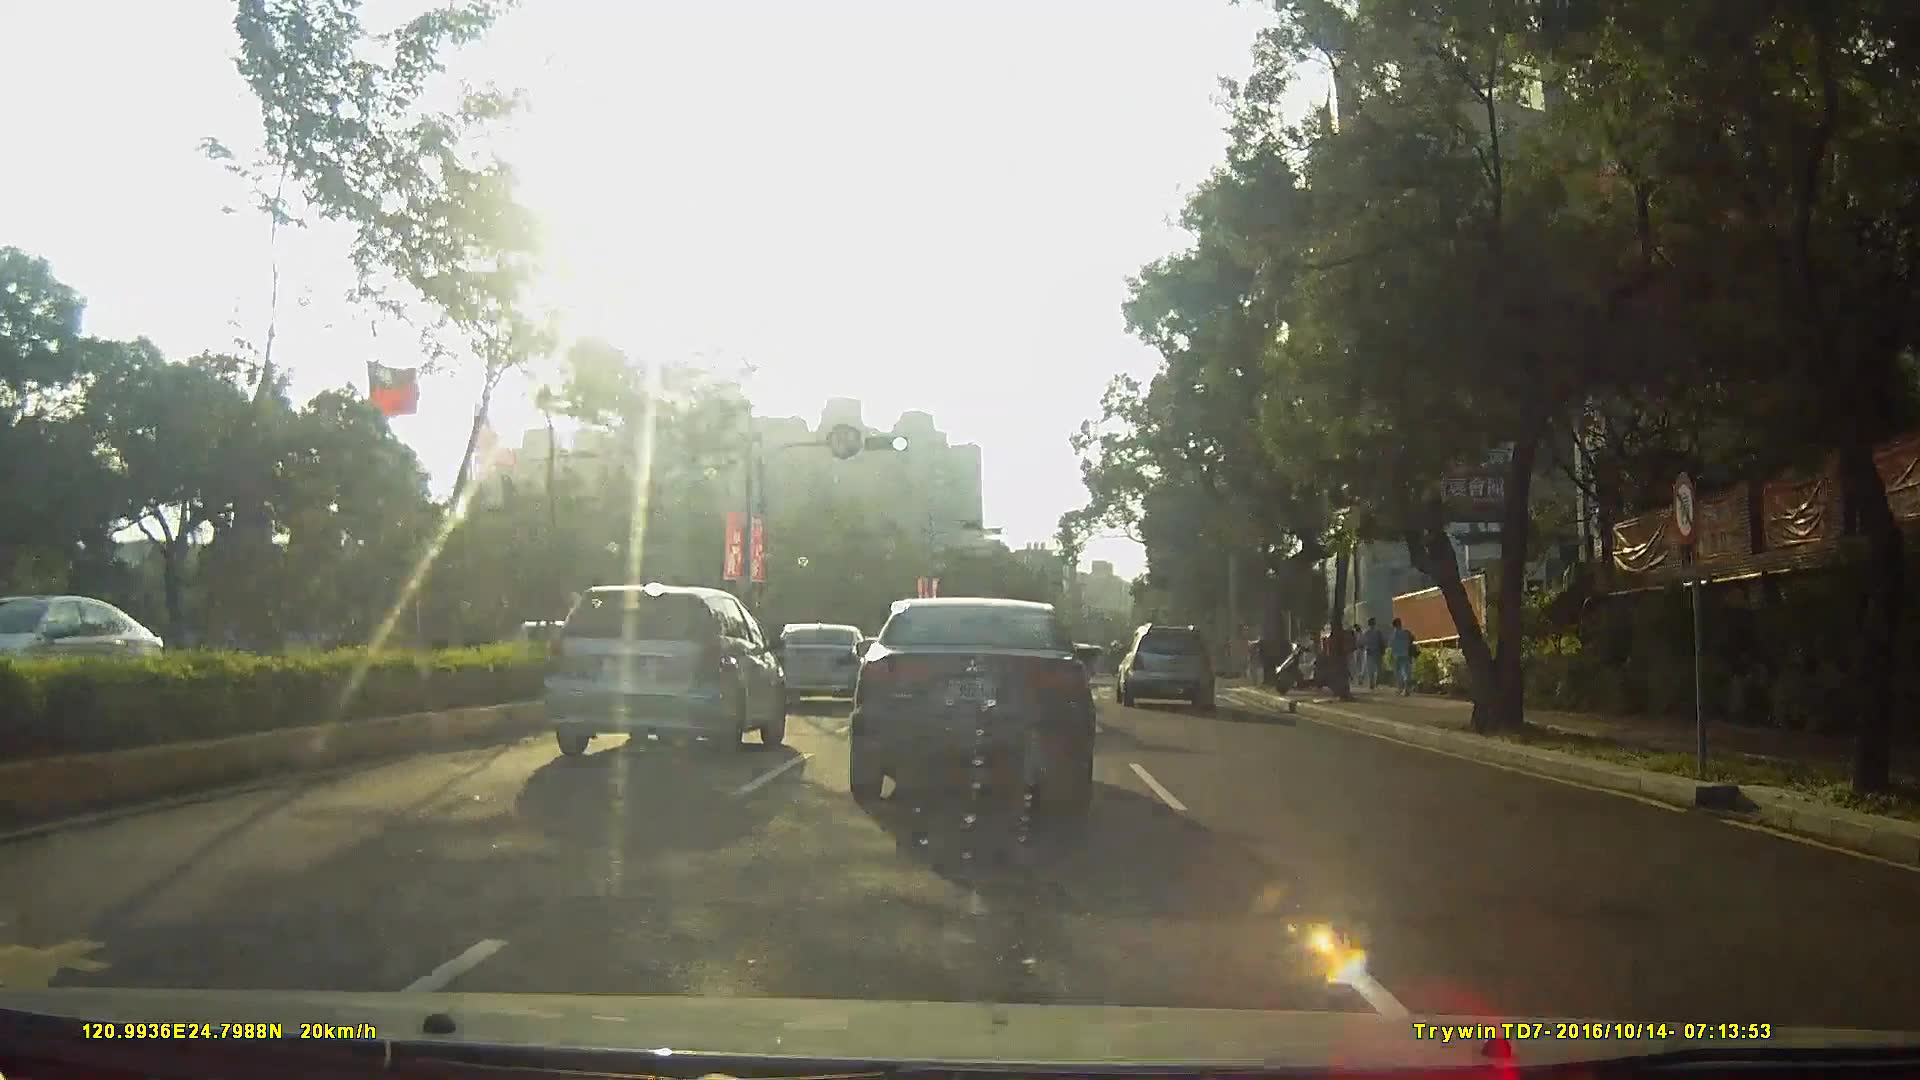pedestrian: (1387, 616, 1419, 700), (1362, 612, 1391, 692)
vehicle: (845, 594, 1093, 812), (540, 581, 787, 759), (1, 587, 178, 706), (1113, 622, 1226, 712), (773, 618, 877, 709)
